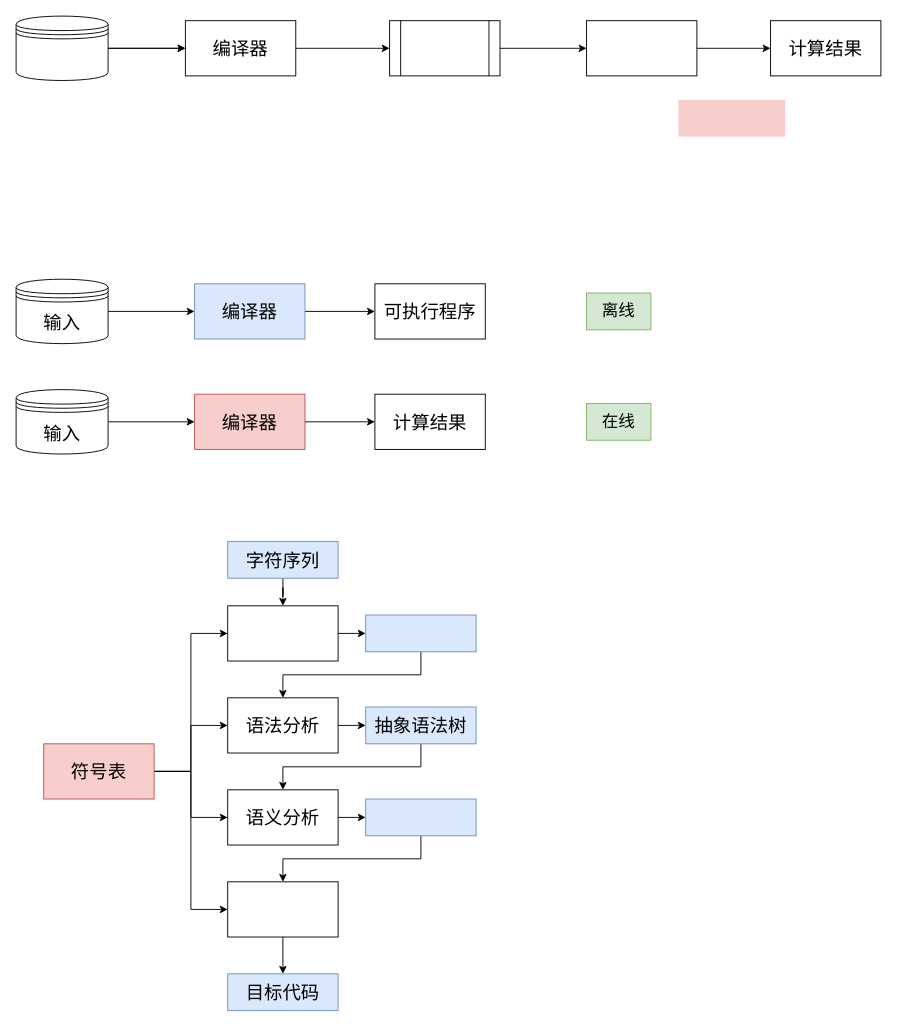
Some shapes in this 897 by 1027 pixel diagram are drawn without their labels. The shapes that lost their labels are listed below. From the top down, each one's centre as x and y in pixels, then its label:
(x=61, y=47): 源代码
(x=444, y=48): 目标程序
(x=641, y=48): 计算机
(x=731, y=117): 动态计算
(x=282, y=633): 词法分析
(x=420, y=633): 记号序列
(x=420, y=817): 中间代码
(x=282, y=909): 代码生成
